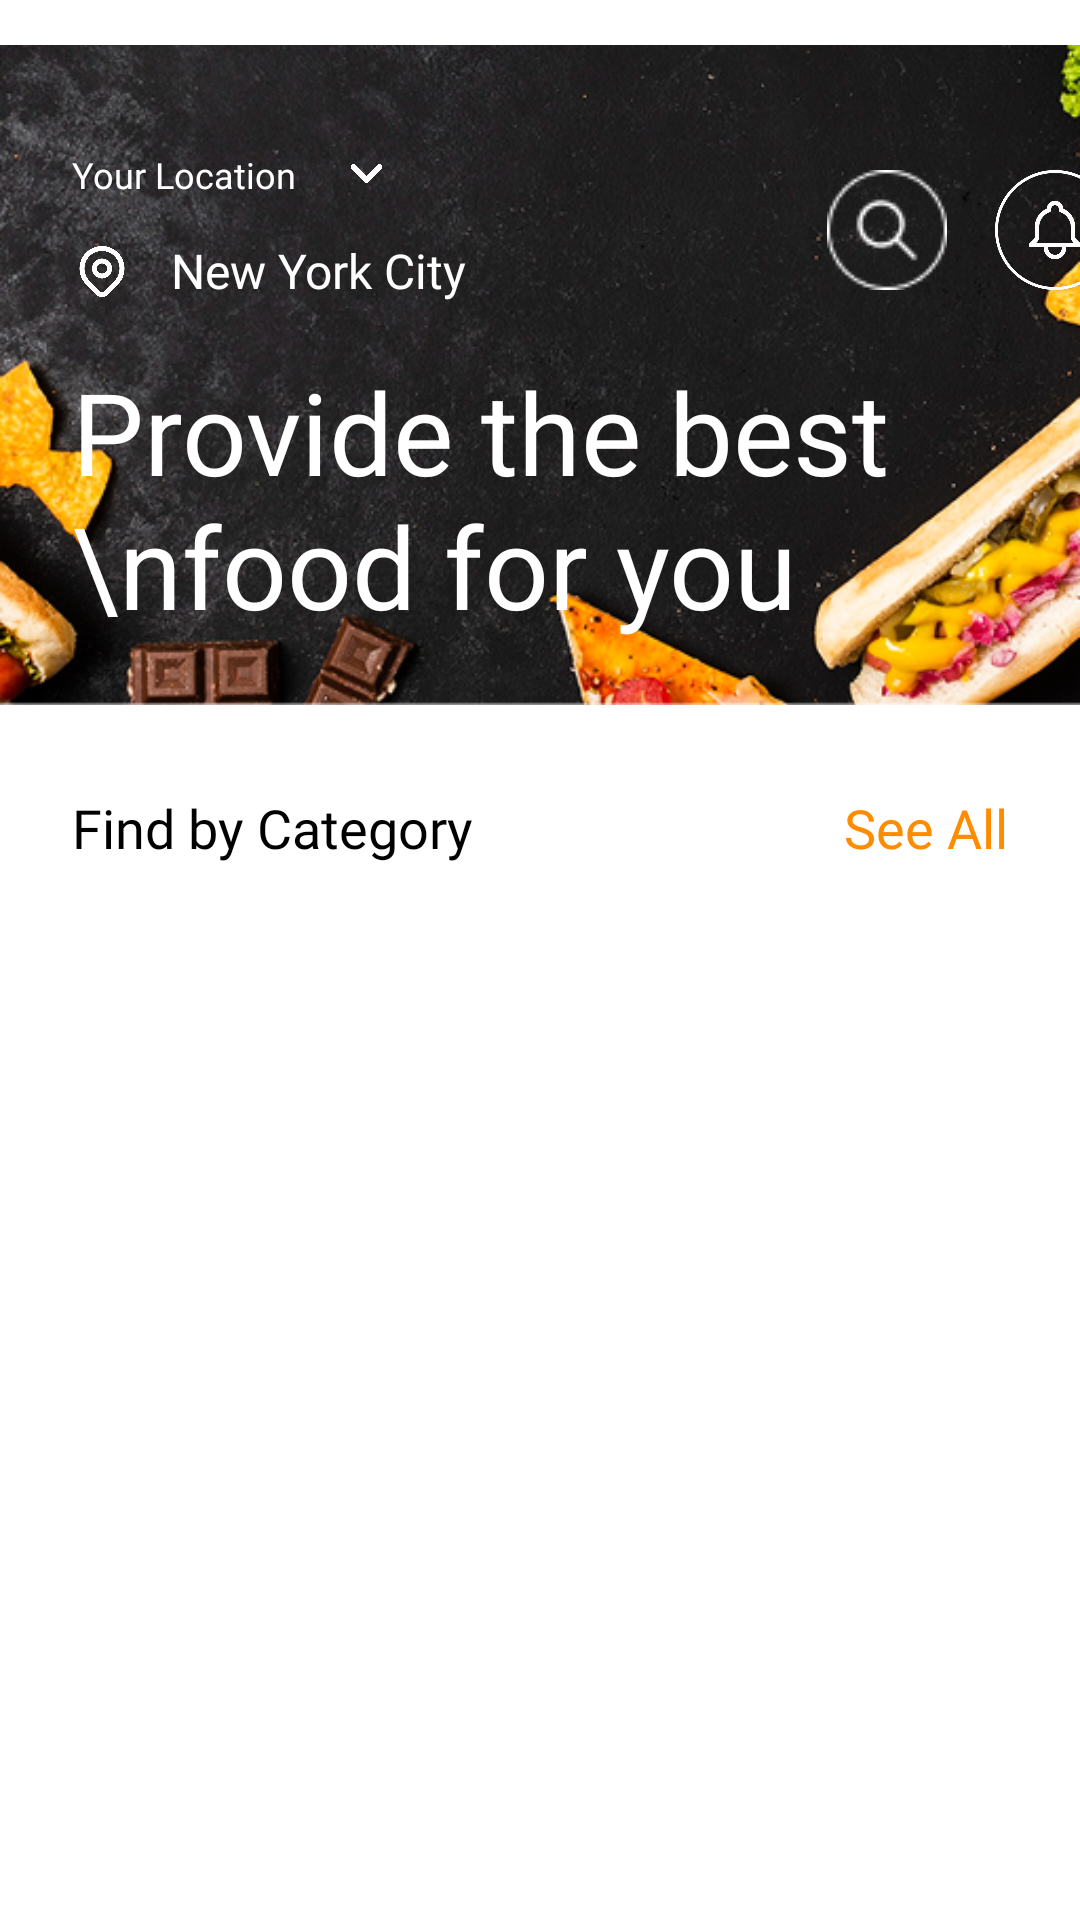

Icon click points for this 1080*1920 phone screenshot, format (x=x, y=y):
search: (x=887, y=230)
